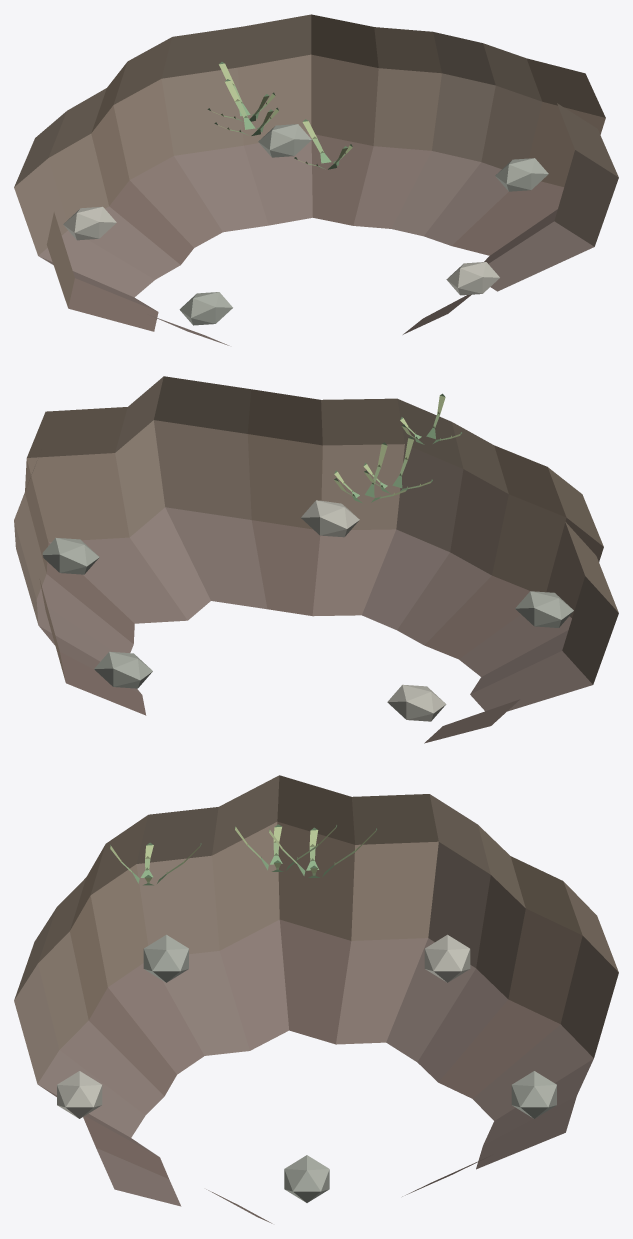
Rendered from moss_island_small.glb.
The picture shows the model from 3 angles, top to bottom: view 1: azimuth 30°, elevation 25°; view 2: azimuth 150°, elevation 25°; view 3: azimuth 270°, elevation 25°; orthographic projection. The views are drawn at different scales.
Parts seen in each view (by area): view 1: Faceted_earth_bank, Waterline_stones, Clump_2_blades, Clump_1_blades, Clump_0_blades; view 2: Faceted_earth_bank, Waterline_stones, Clump_0_blades, Clump_2_blades; view 3: Faceted_earth_bank, Waterline_stones, Clump_0_blades.
Part boxes in pixels (<box>): Faceted_earth_bank: <box>14,14,618,345</box>; Waterline_stones: <box>63,124,548,325</box>; Clump_2_blades: <box>214,79,278,135</box>; Clump_1_blades: <box>294,119,352,169</box>; Clump_0_blades: <box>207,62,275,121</box>; Faceted_earth_bank: <box>14,376,618,743</box>; Waterline_stones: <box>42,500,573,721</box>; Clump_0_blades: <box>334,442,407,503</box>; Clump_2_blades: <box>363,436,432,493</box>; Faceted_earth_bank: <box>14,775,618,1223</box>; Waterline_stones: <box>57,934,556,1202</box>; Clump_0_blades: <box>269,827,376,877</box>.
Size of the model in its own units: 2.87 by 1.09 by 2.27.
